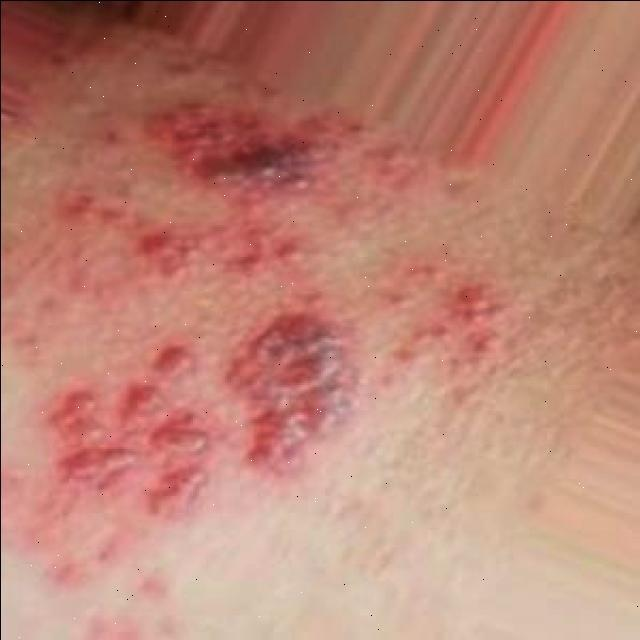Shingles: (0, 106, 374, 512)
